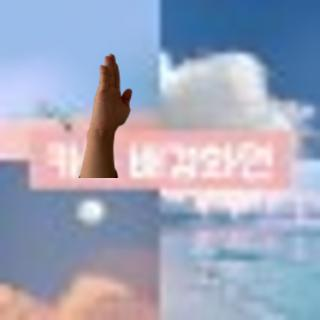RIGHT: (88, 48, 133, 138)
